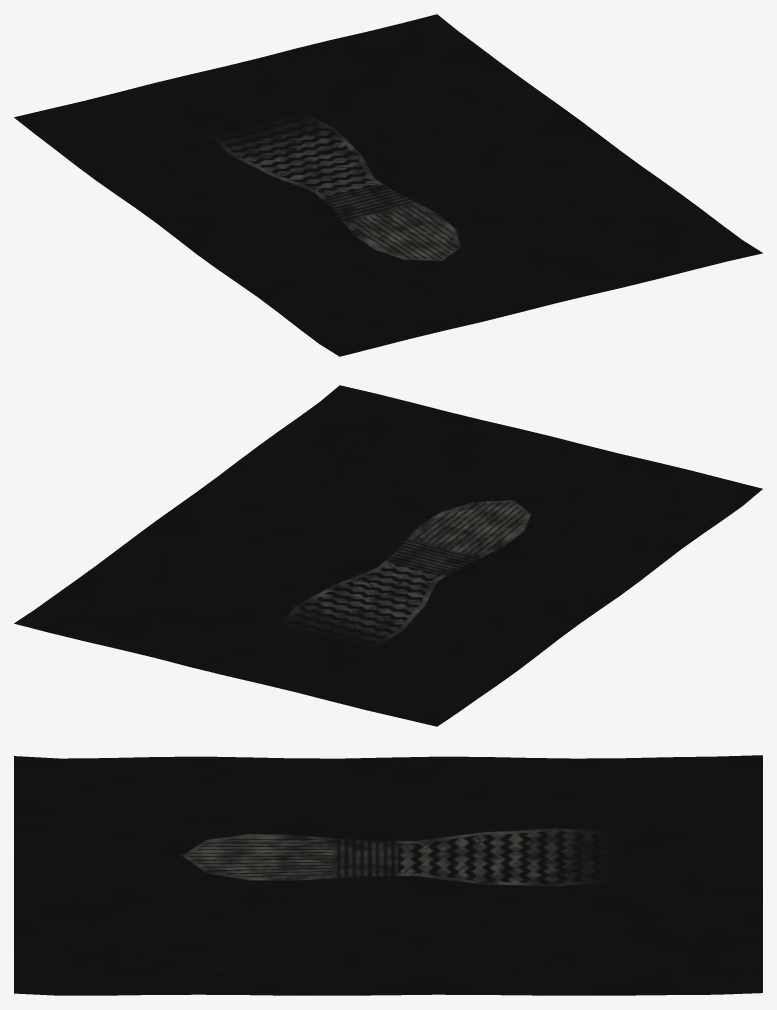
Rendered from ElectrostaticLiftFilm.obj.
3 renders of one model, top to bottom at view 1: azimuth 30°, elevation 25°; view 2: azimuth 150°, elevation 25°; view 3: azimuth 270°, elevation 25°, orthographic. The views are drawn at different scales.
Visible parts, largest first — view 1: LiftFilm; view 2: LiftFilm; view 3: LiftFilm.
Part boxes in pixels (left/top/right/bottom): LiftFilm: left=14, top=14, right=762, bottom=356; LiftFilm: left=14, top=385, right=762, bottom=726; LiftFilm: left=14, top=755, right=762, bottom=995.
Bounding box in the file's own units: 0.3 × 0.0022 × 0.4.
Materials: 1 (1 with a texture image).
